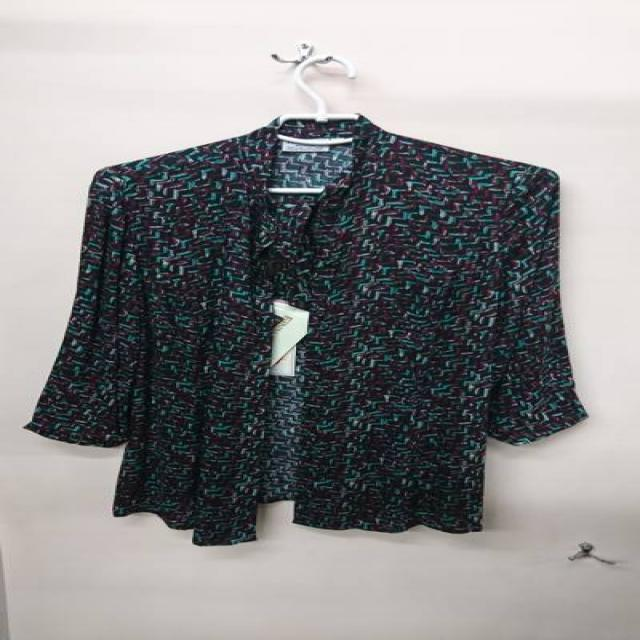Clothes -Biodegradable-: (16, 113, 584, 542)
